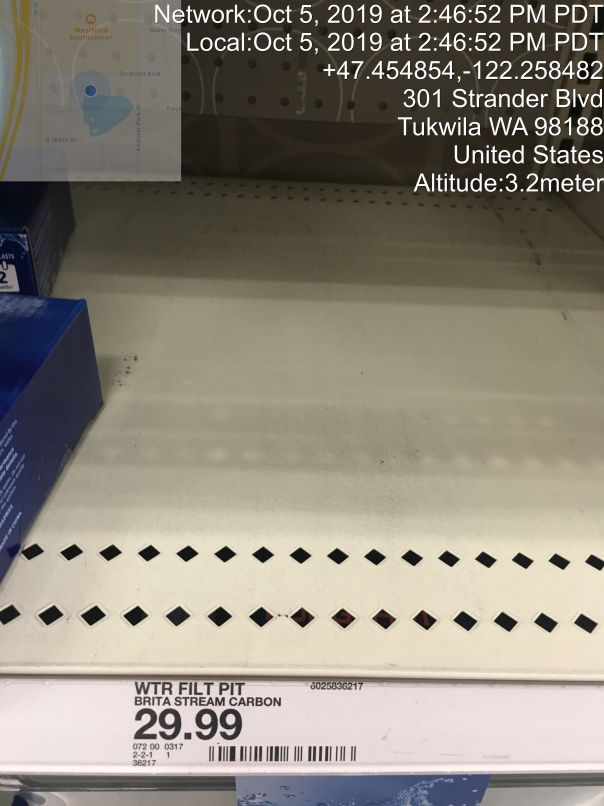Label: (118, 674, 381, 777)
Location: (390, 81, 604, 165)
Time: (151, 3, 604, 59)
Void: (126, 196, 555, 642)
